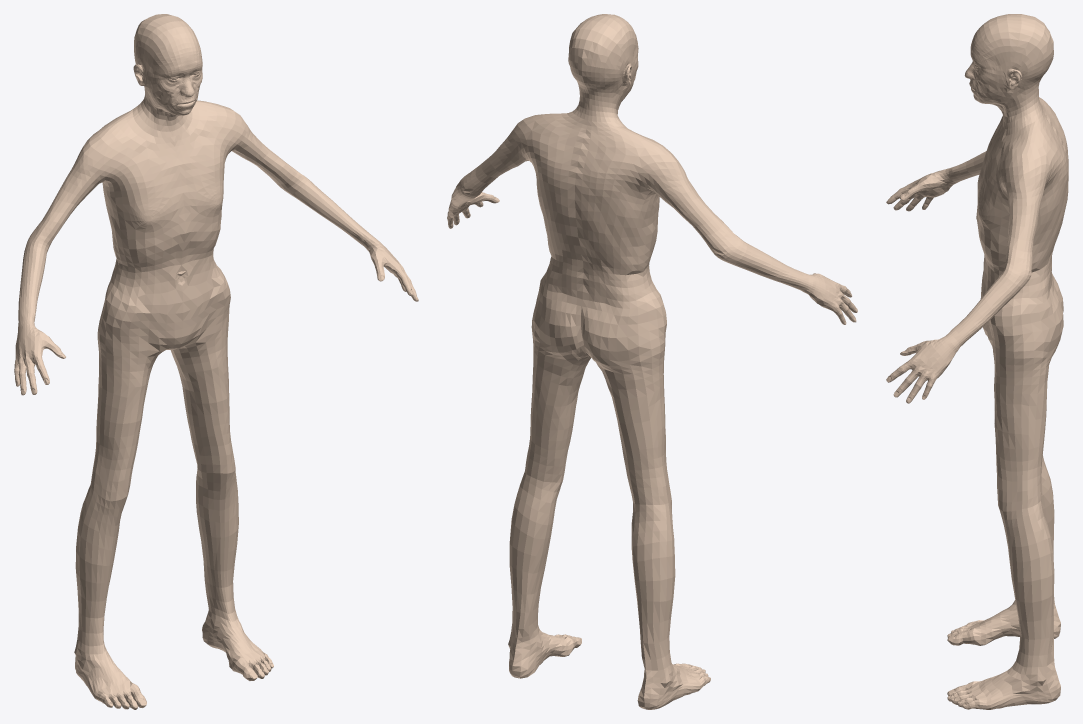
Rendered from male-older-lean-low.glb.
3 views of the same model, side by side, from view 1: azimuth 30°, elevation 25°; view 2: azimuth 150°, elevation 25°; view 3: azimuth 270°, elevation 25° (orthographic).
Visible parts, largest first — view 1: world; view 2: world; view 3: world.
Boxes of the visible parts, x1=… form: world: x1=14, y1=14, x2=418, y2=709; world: x1=447, y1=14, x2=857, y2=709; world: x1=886, y1=14, x2=1068, y2=709.
Size of the model in its own units: 1.22 by 1.93 by 0.4873.
